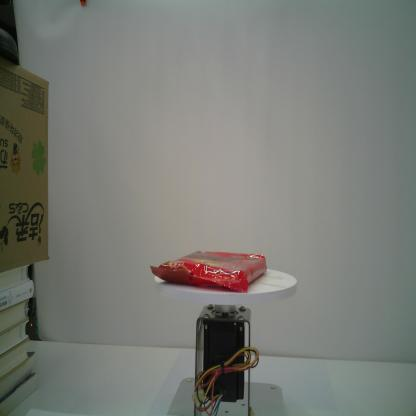Dessert: (150, 249, 268, 294)
